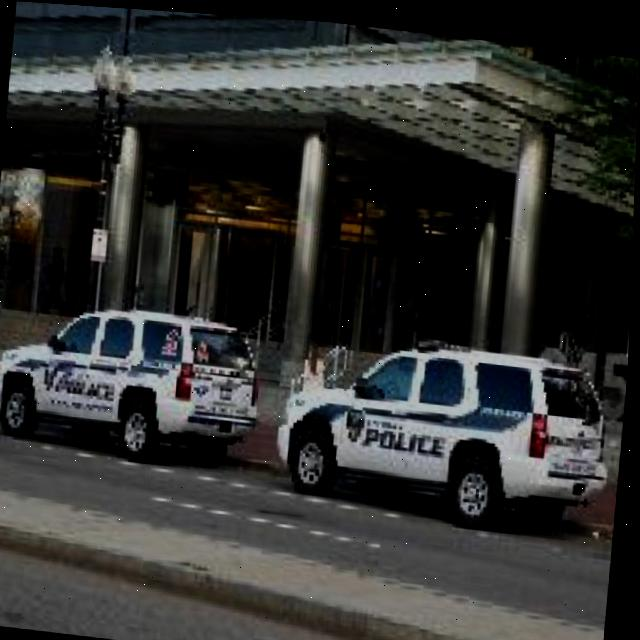emergency: (273, 319, 621, 538), (0, 290, 269, 474)
